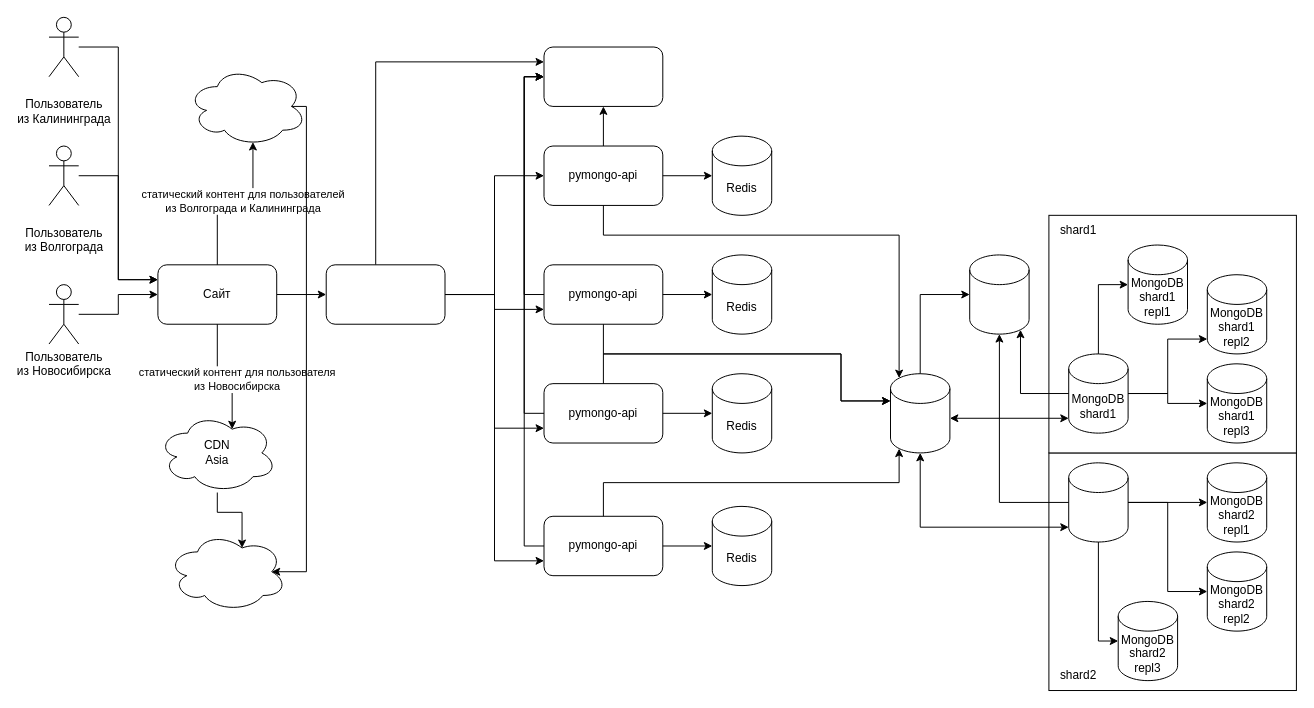
The diagram is 1314 pixels wide and 708 high, and some of its shapes have lost their labels. Here are the shapes that lost their labels. From the top down, the box of each, then its label:
(543, 46, 663, 106): Consul
(187, 66, 306, 146): CDN Europe
(325, 264, 445, 324): APISIX gateway
(969, 254, 1029, 334): MongoDB configSrv
(890, 373, 950, 453): MongoDB router
(1068, 462, 1128, 542): MongoDB shard2
(167, 531, 287, 611): S3 со статическим контентом
